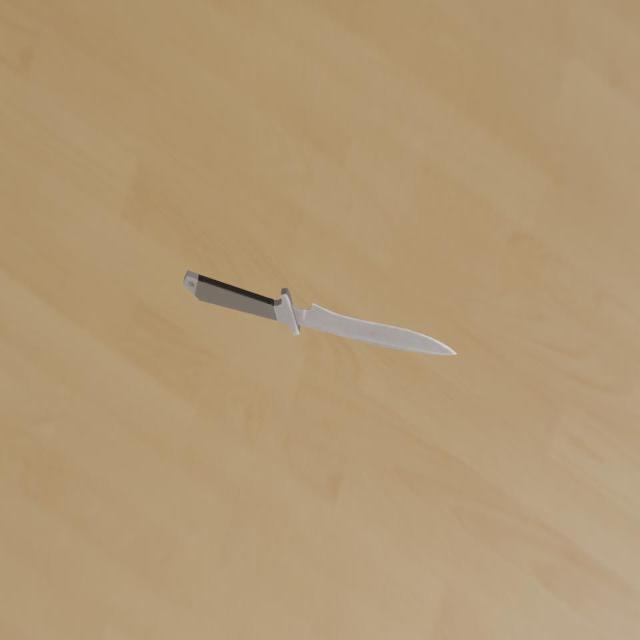knife: (184, 271, 277, 321)
